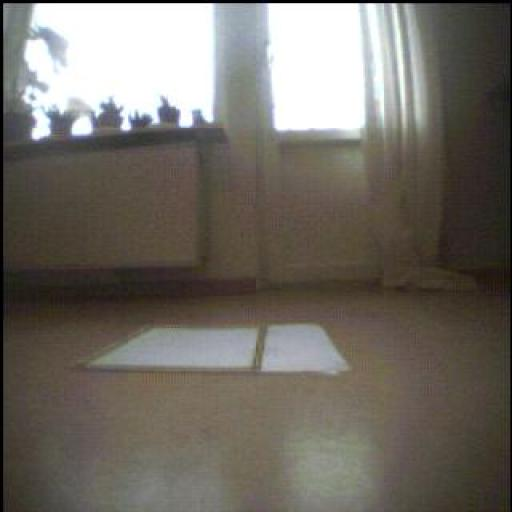Pad: (75, 326, 347, 365)
